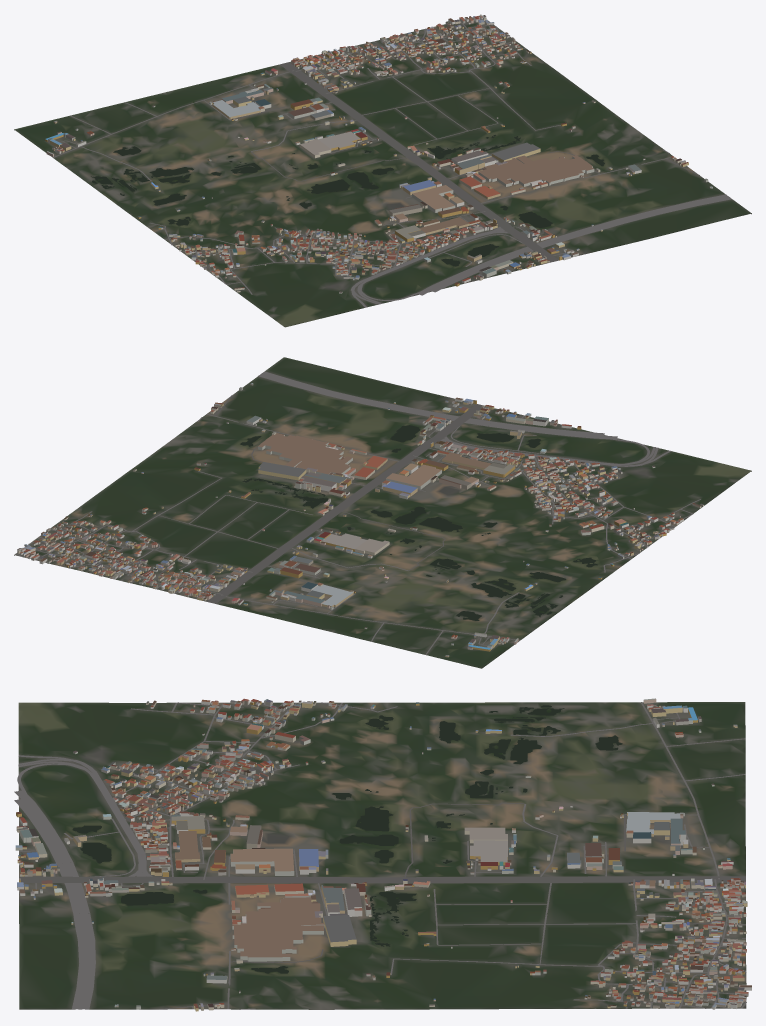
3 renders of one model, top to bottom at view 1: azimuth 30°, elevation 25°; view 2: azimuth 150°, elevation 25°; view 3: azimuth 270°, elevation 25°, orthographic. The views are drawn at different scales.
Parts seen in each view (by area): view 1: ground, buildings, roads, water; view 2: ground, buildings, roads, water; view 3: ground, buildings, roads, water.
Part boxes in pixels (<box>): ground: <box>14,15,751,327</box>; buildings: <box>45,14,712,293</box>; roads: <box>52,17,731,307</box>; water: <box>91,135,604,266</box>; ground: <box>14,357,751,668</box>; buildings: <box>17,383,703,657</box>; roads: <box>15,371,700,654</box>; water: <box>240,425,597,620</box>; ground: <box>18,702,746,1009</box>; buildings: <box>15,698,751,1011</box>; roads: <box>14,702,746,1009</box>; water: <box>72,705,622,973</box>.
Bounding box in the file's own units: 1413 × 20.21 × 1423.
